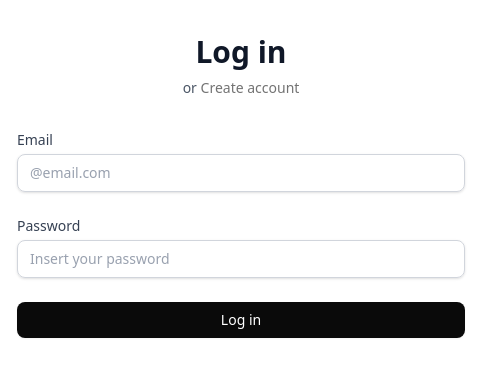
it: Login › Should show required field errors
What coordinates should you click on to do the following:
click the button "Log in"
I would click on:
 (241, 320)
Its box is 17,302 -> 465,338.
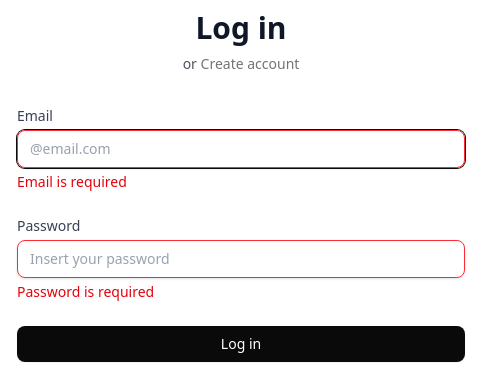
Check: the text "Email is required" is shown, box 17,172 -> 127,191
Check: the text "Password is required" is shown, box 17,282 -> 154,301
